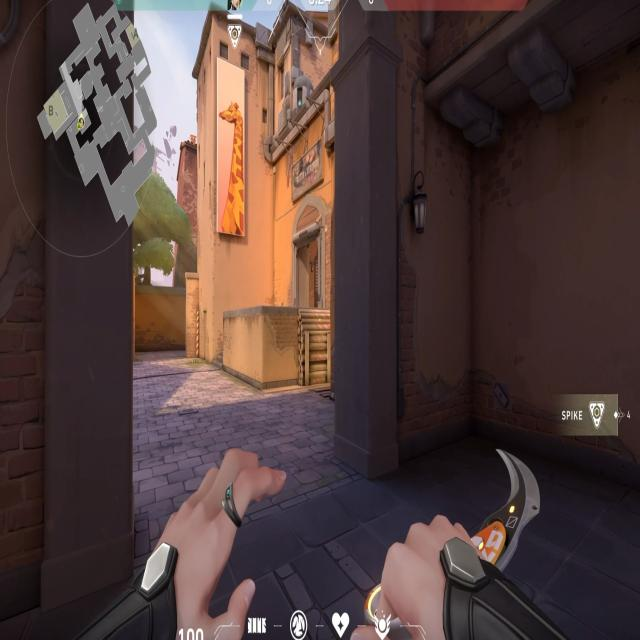B_Cubby: (258, 293, 333, 396)
